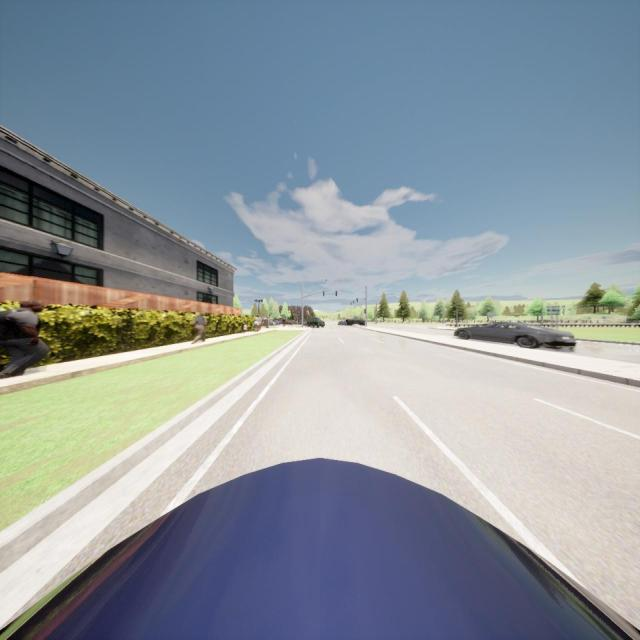Pedestrian: (0, 296, 49, 377), (192, 310, 206, 344), (254, 314, 261, 332), (281, 316, 286, 329), (242, 322, 247, 334)
Traffic_Signs: (547, 306, 560, 314), (488, 313, 492, 317)
Vehicle: (2, 456, 640, 640), (454, 322, 576, 350), (307, 317, 325, 328), (346, 317, 365, 326), (337, 320, 346, 326)
traffic_light: (364, 308, 366, 314), (322, 291, 324, 296), (335, 291, 337, 296), (356, 298, 358, 302), (353, 301, 354, 303)
